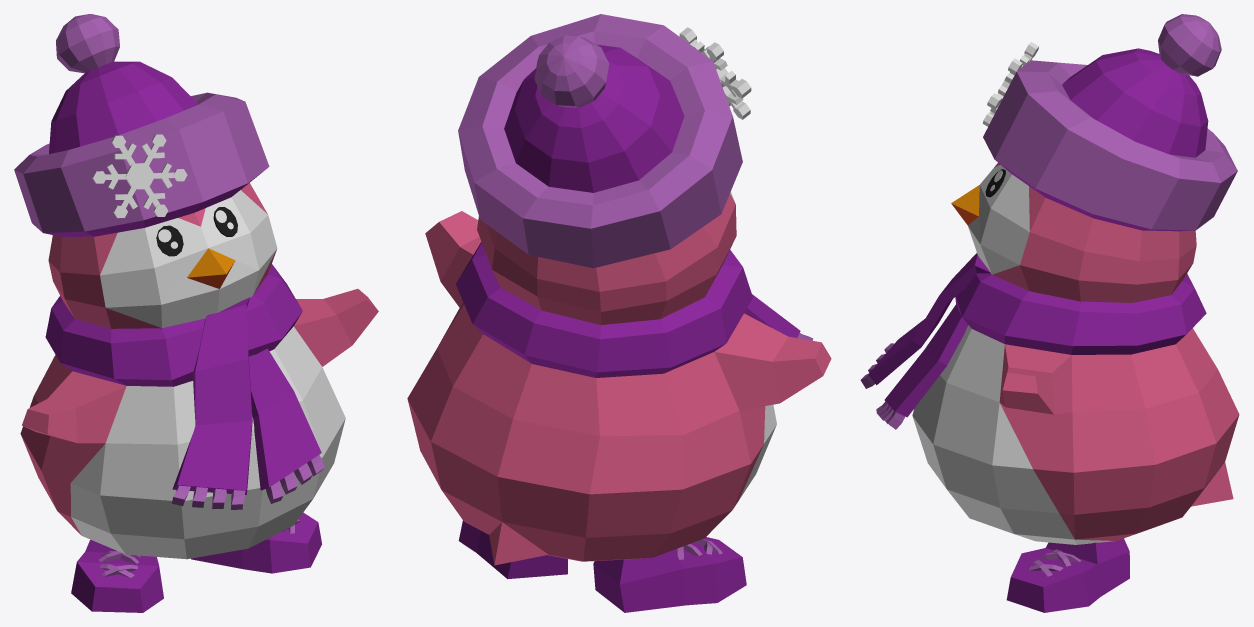
The model's file is penguin.glb.
3 views of the same model, side by side, from view 1: azimuth 30°, elevation 25°; view 2: azimuth 150°, elevation 25°; view 3: azimuth 270°, elevation 25° (orthographic). The views are drawn at different scales.
Parts seen in each view (by area): view 1: char; view 2: char; view 3: char.
Boxes of the visible parts, x1,y1,x2,y2 form: char: (14, 14, 378, 612); char: (407, 14, 831, 612); char: (860, 14, 1239, 612).
Size of the model in its own units: 0.9804 by 1.4 by 0.9208.
